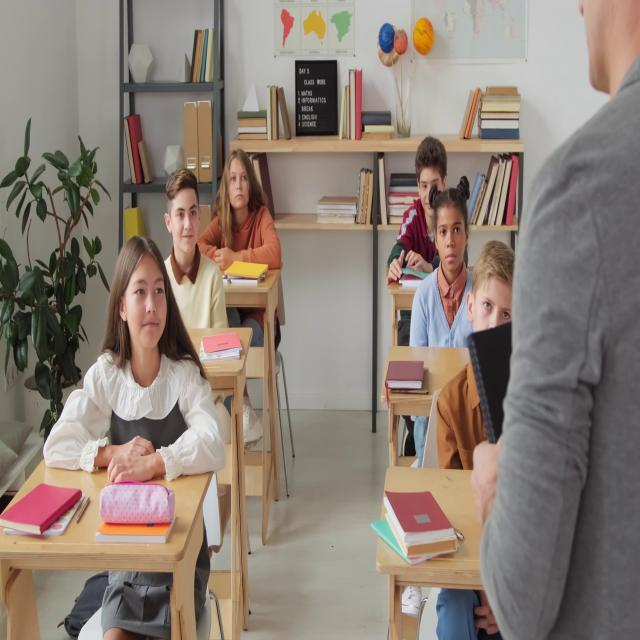listening: (46, 239, 228, 480), (426, 239, 513, 469), (378, 118, 466, 286), (194, 132, 292, 275), (410, 183, 478, 355), (162, 169, 229, 334)
